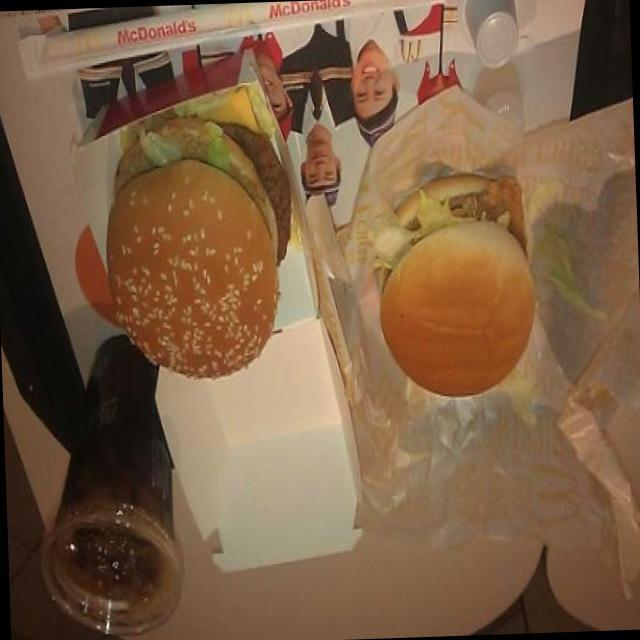Hamburger: (93, 87, 304, 405), (364, 164, 544, 419)
